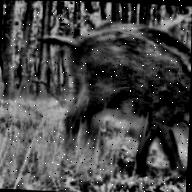boar: (37, 1, 192, 169)
